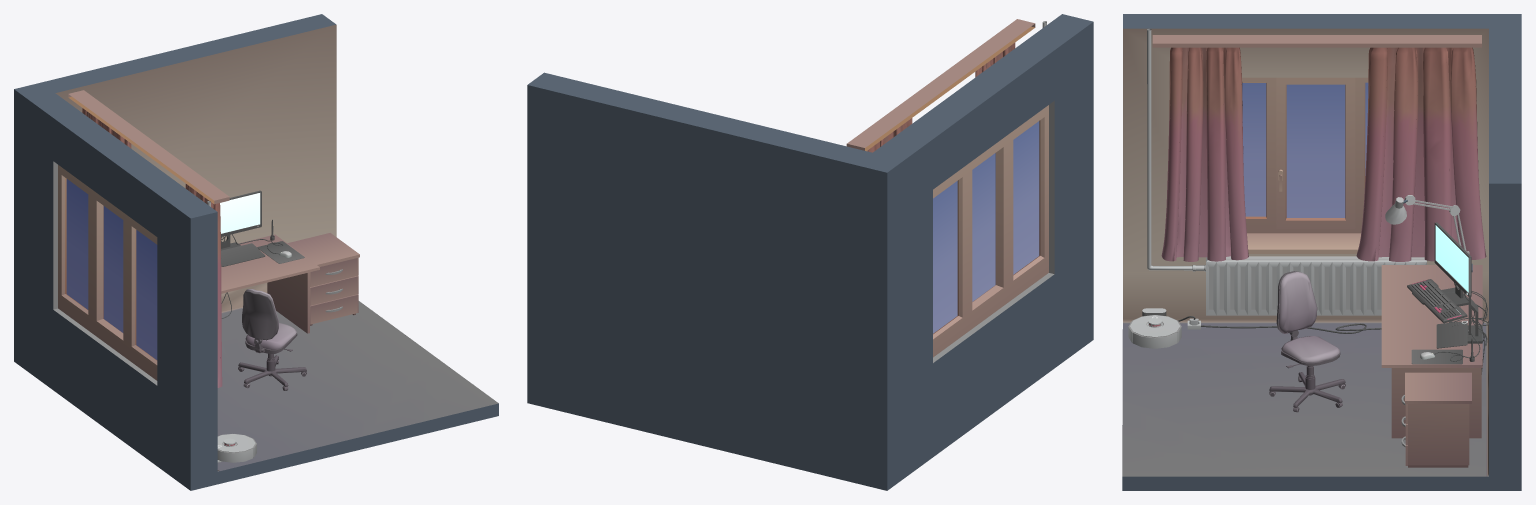
Rendered from room-transformed.glb.
3 views of the same model, side by side, from view 1: azimuth 30°, elevation 25°; view 2: azimuth 150°, elevation 25°; view 3: azimuth 270°, elevation 25° (orthographic). The views are drawn at different scales.
Parts seen in each view (by area): view 1: body1_blinn1_0; view 2: body1_blinn1_0; view 3: body1_blinn1_0.
Boxes of the visible parts, x1=… form: body1_blinn1_0: x1=14, y1=14, x2=498, y2=490; body1_blinn1_0: x1=527, y1=14, x2=1093, y2=490; body1_blinn1_0: x1=1122, y1=14, x2=1521, y2=490.
Size of the model in its own units: 9.11 by 7.72 by 9.06.
